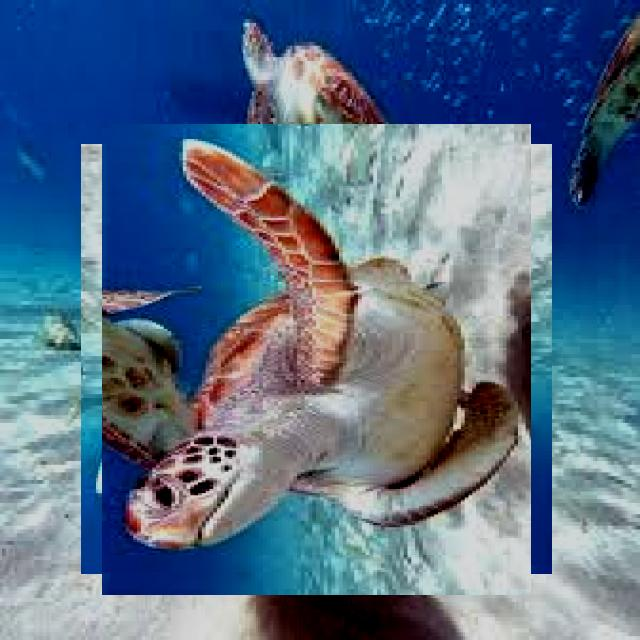Sea turtle: (91, 134, 542, 585), (230, 10, 420, 220)
